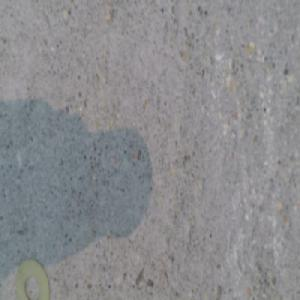Washer: (15, 259, 50, 300)
